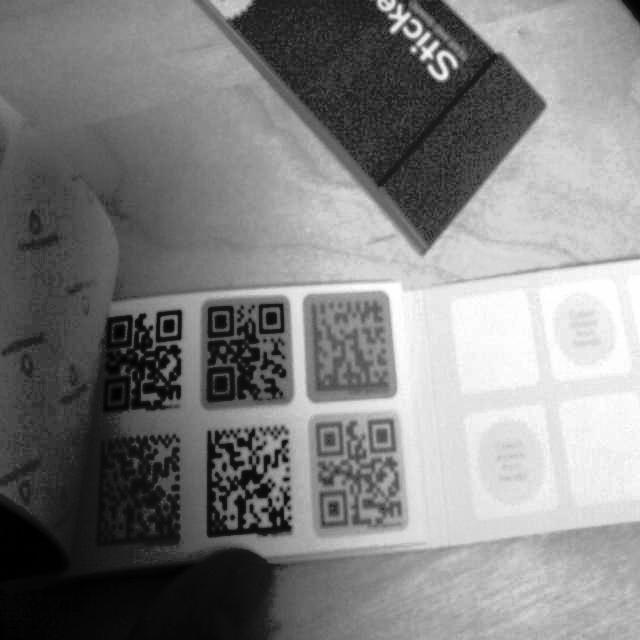qr_code: (315, 419, 403, 529), (103, 309, 183, 412), (207, 302, 287, 402)
